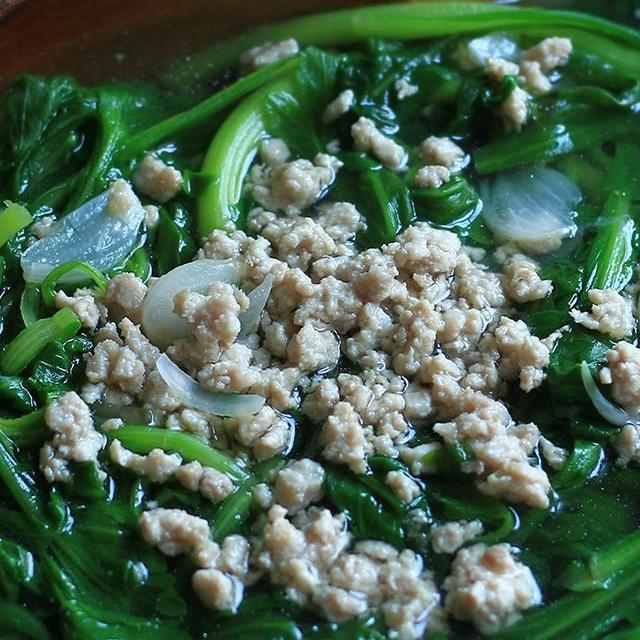thit bam: (21, 82, 566, 640), (572, 195, 640, 467)
